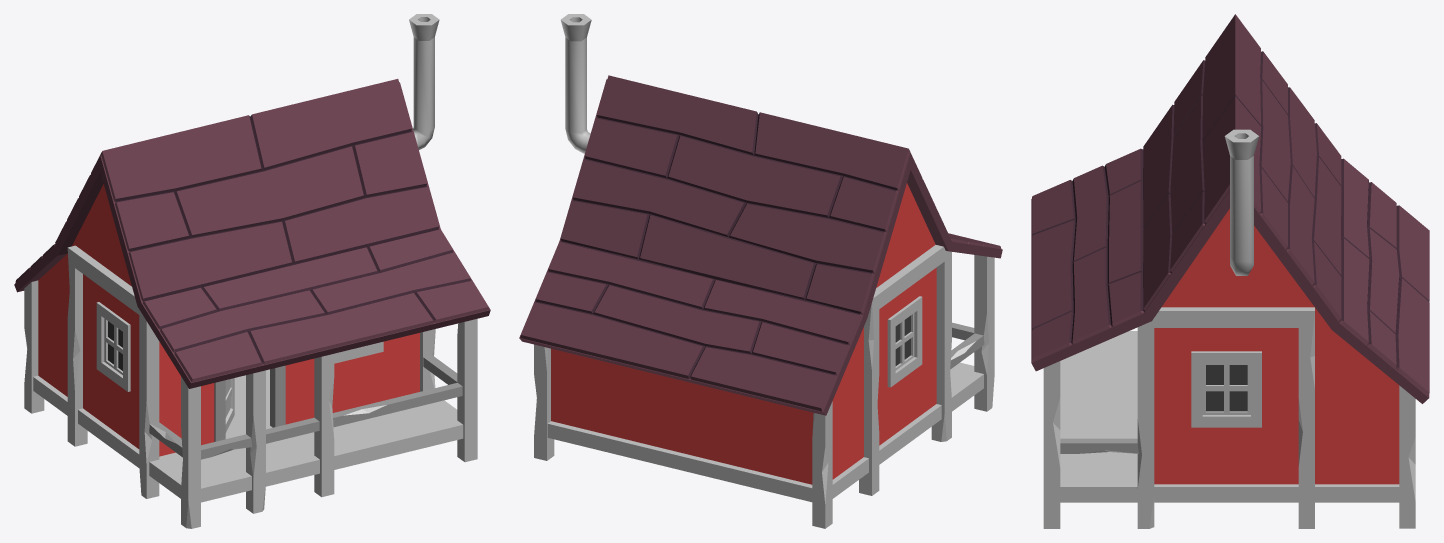
The model's file is House_5.fbx.
3 renders of one model, left to right at view 1: azimuth 30°, elevation 25°; view 2: azimuth 150°, elevation 25°; view 3: azimuth 270°, elevation 25°, orthographic. The views are drawn at different scales.
Visible parts, largest first — view 1: House_5; view 2: House_5; view 3: House_5.
Part boxes in pixels (bbox=[...]): House_5: bbox=[14, 14, 490, 528]; House_5: bbox=[519, 14, 1002, 528]; House_5: bbox=[1031, 14, 1429, 528].
Bounding box in the file's own units: 178 × 185 × 162.
